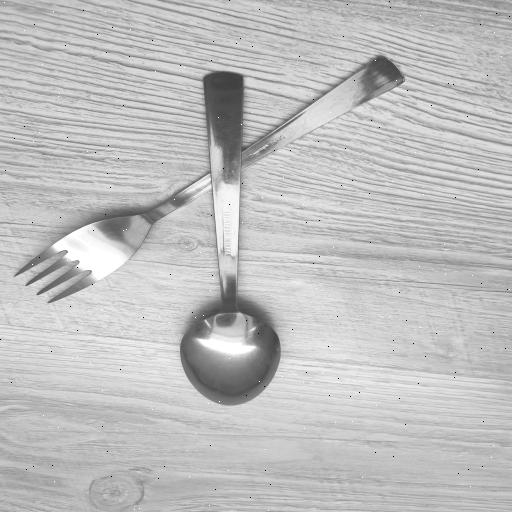fork: (11, 56, 409, 306)
spoon: (182, 68, 281, 408)
